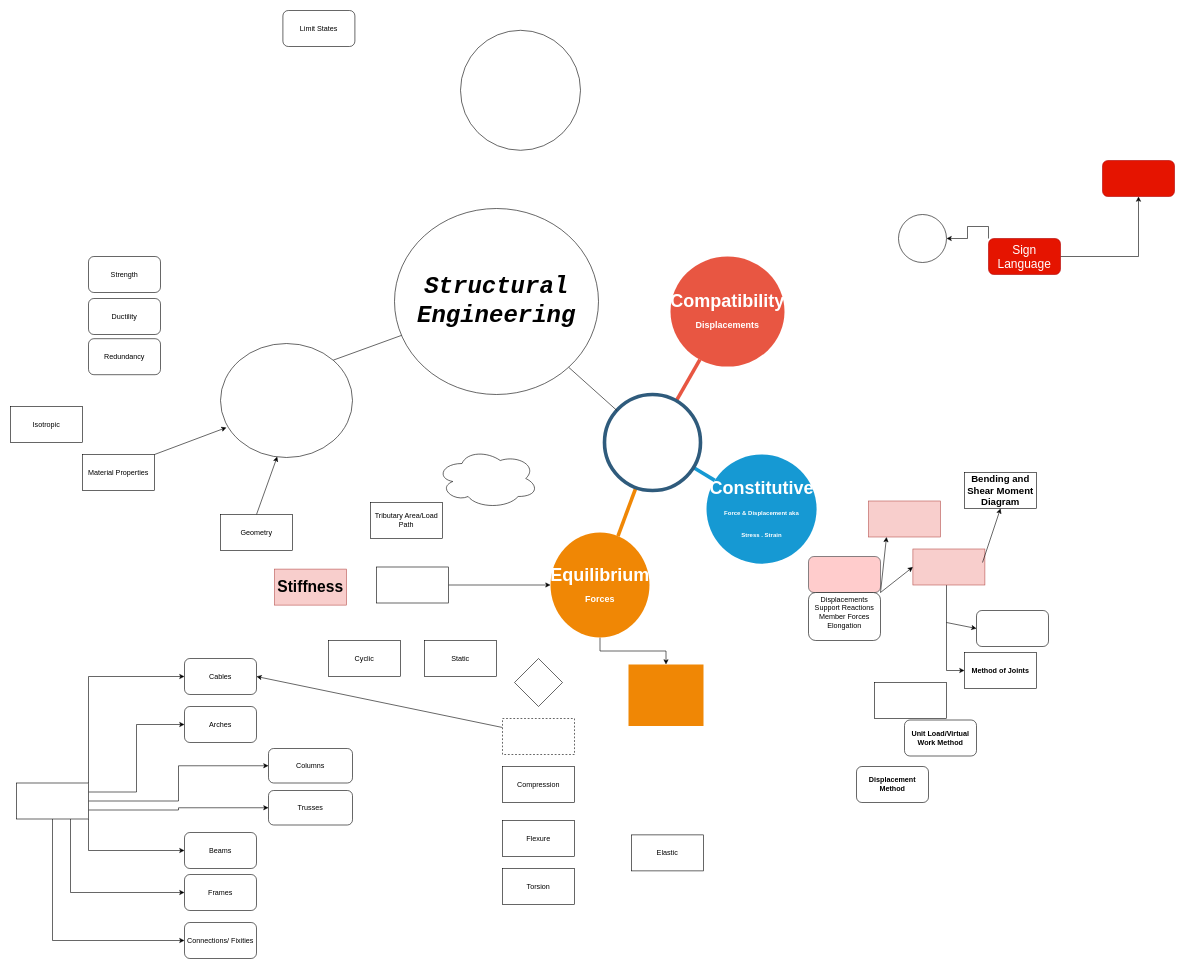
Some shapes in this 1185 by 969 pixel diagram are drawn without their labels. The centre of each missing label's shape, as x and y in pixels:
"Analysis" goes at point (652, 442).
"Coordinate System" goes at point (1138, 178).
"Design" goes at point (286, 400).
"Equations NET FORCE X; NET FORCE Y; Moment" goes at point (665, 695).
"Find Internal Member Forces" goes at point (948, 566).
"Find Reactions" goes at point (904, 518).
"How does the force flow between members?" goes at point (487, 478).
"Loads" goes at point (412, 584).
"Method Of Sections" goes at point (1012, 628).
"Principle Forces" goes at point (538, 682).
"Structures" goes at point (52, 800).
"Tension" goes at point (538, 736).
"Tension is POSITVE" goes at point (922, 238).
"TEST" goes at point (520, 90).
"Unknowns" goes at point (844, 574).
